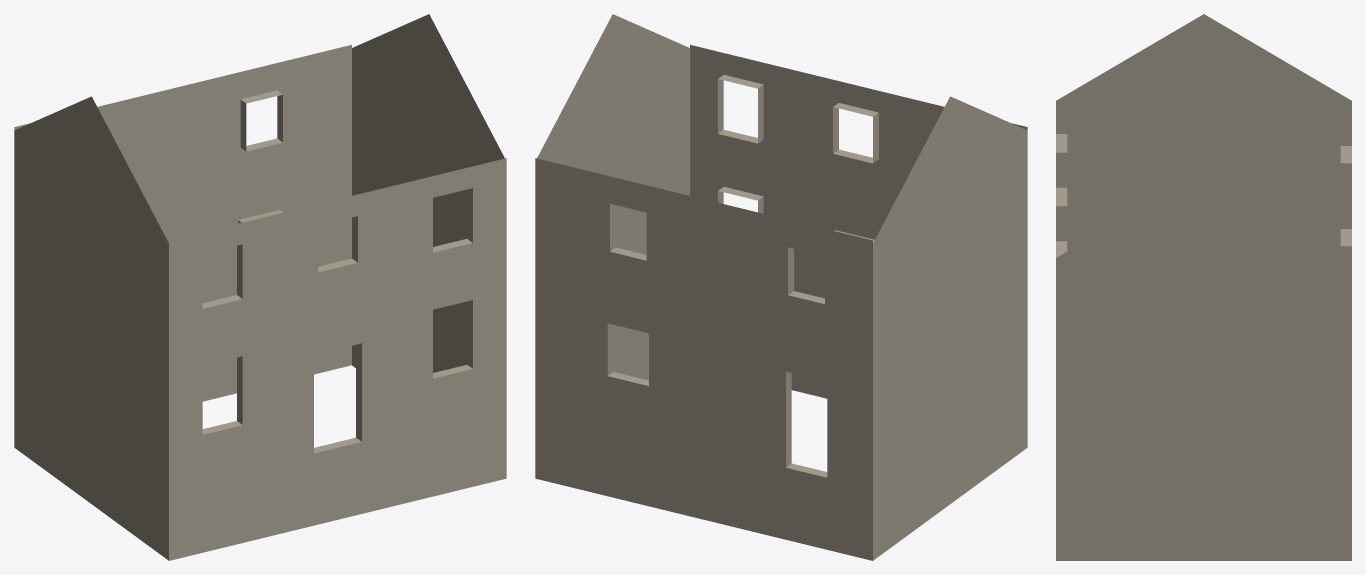
File: SM_Bld_069_Render.glb
The picture shows the model from 3 angles, left to right: view 1: azimuth 30°, elevation 25°; view 2: azimuth 150°, elevation 25°; view 3: azimuth 270°, elevation 25°; orthographic projection. The views are drawn at different scales.
Visible parts, largest first — view 1: SM_Bld_069_Render; view 2: SM_Bld_069_Render; view 3: SM_Bld_069_Render.
Boxes of the visible parts, left/top/right/bottom form: SM_Bld_069_Render: left=14, top=14, right=506, bottom=560; SM_Bld_069_Render: left=535, top=14, right=1027, bottom=560; SM_Bld_069_Render: left=1056, top=14, right=1351, bottom=560.
Bounding box in the file's own units: 7.35 × 8.49 × 5.84.
